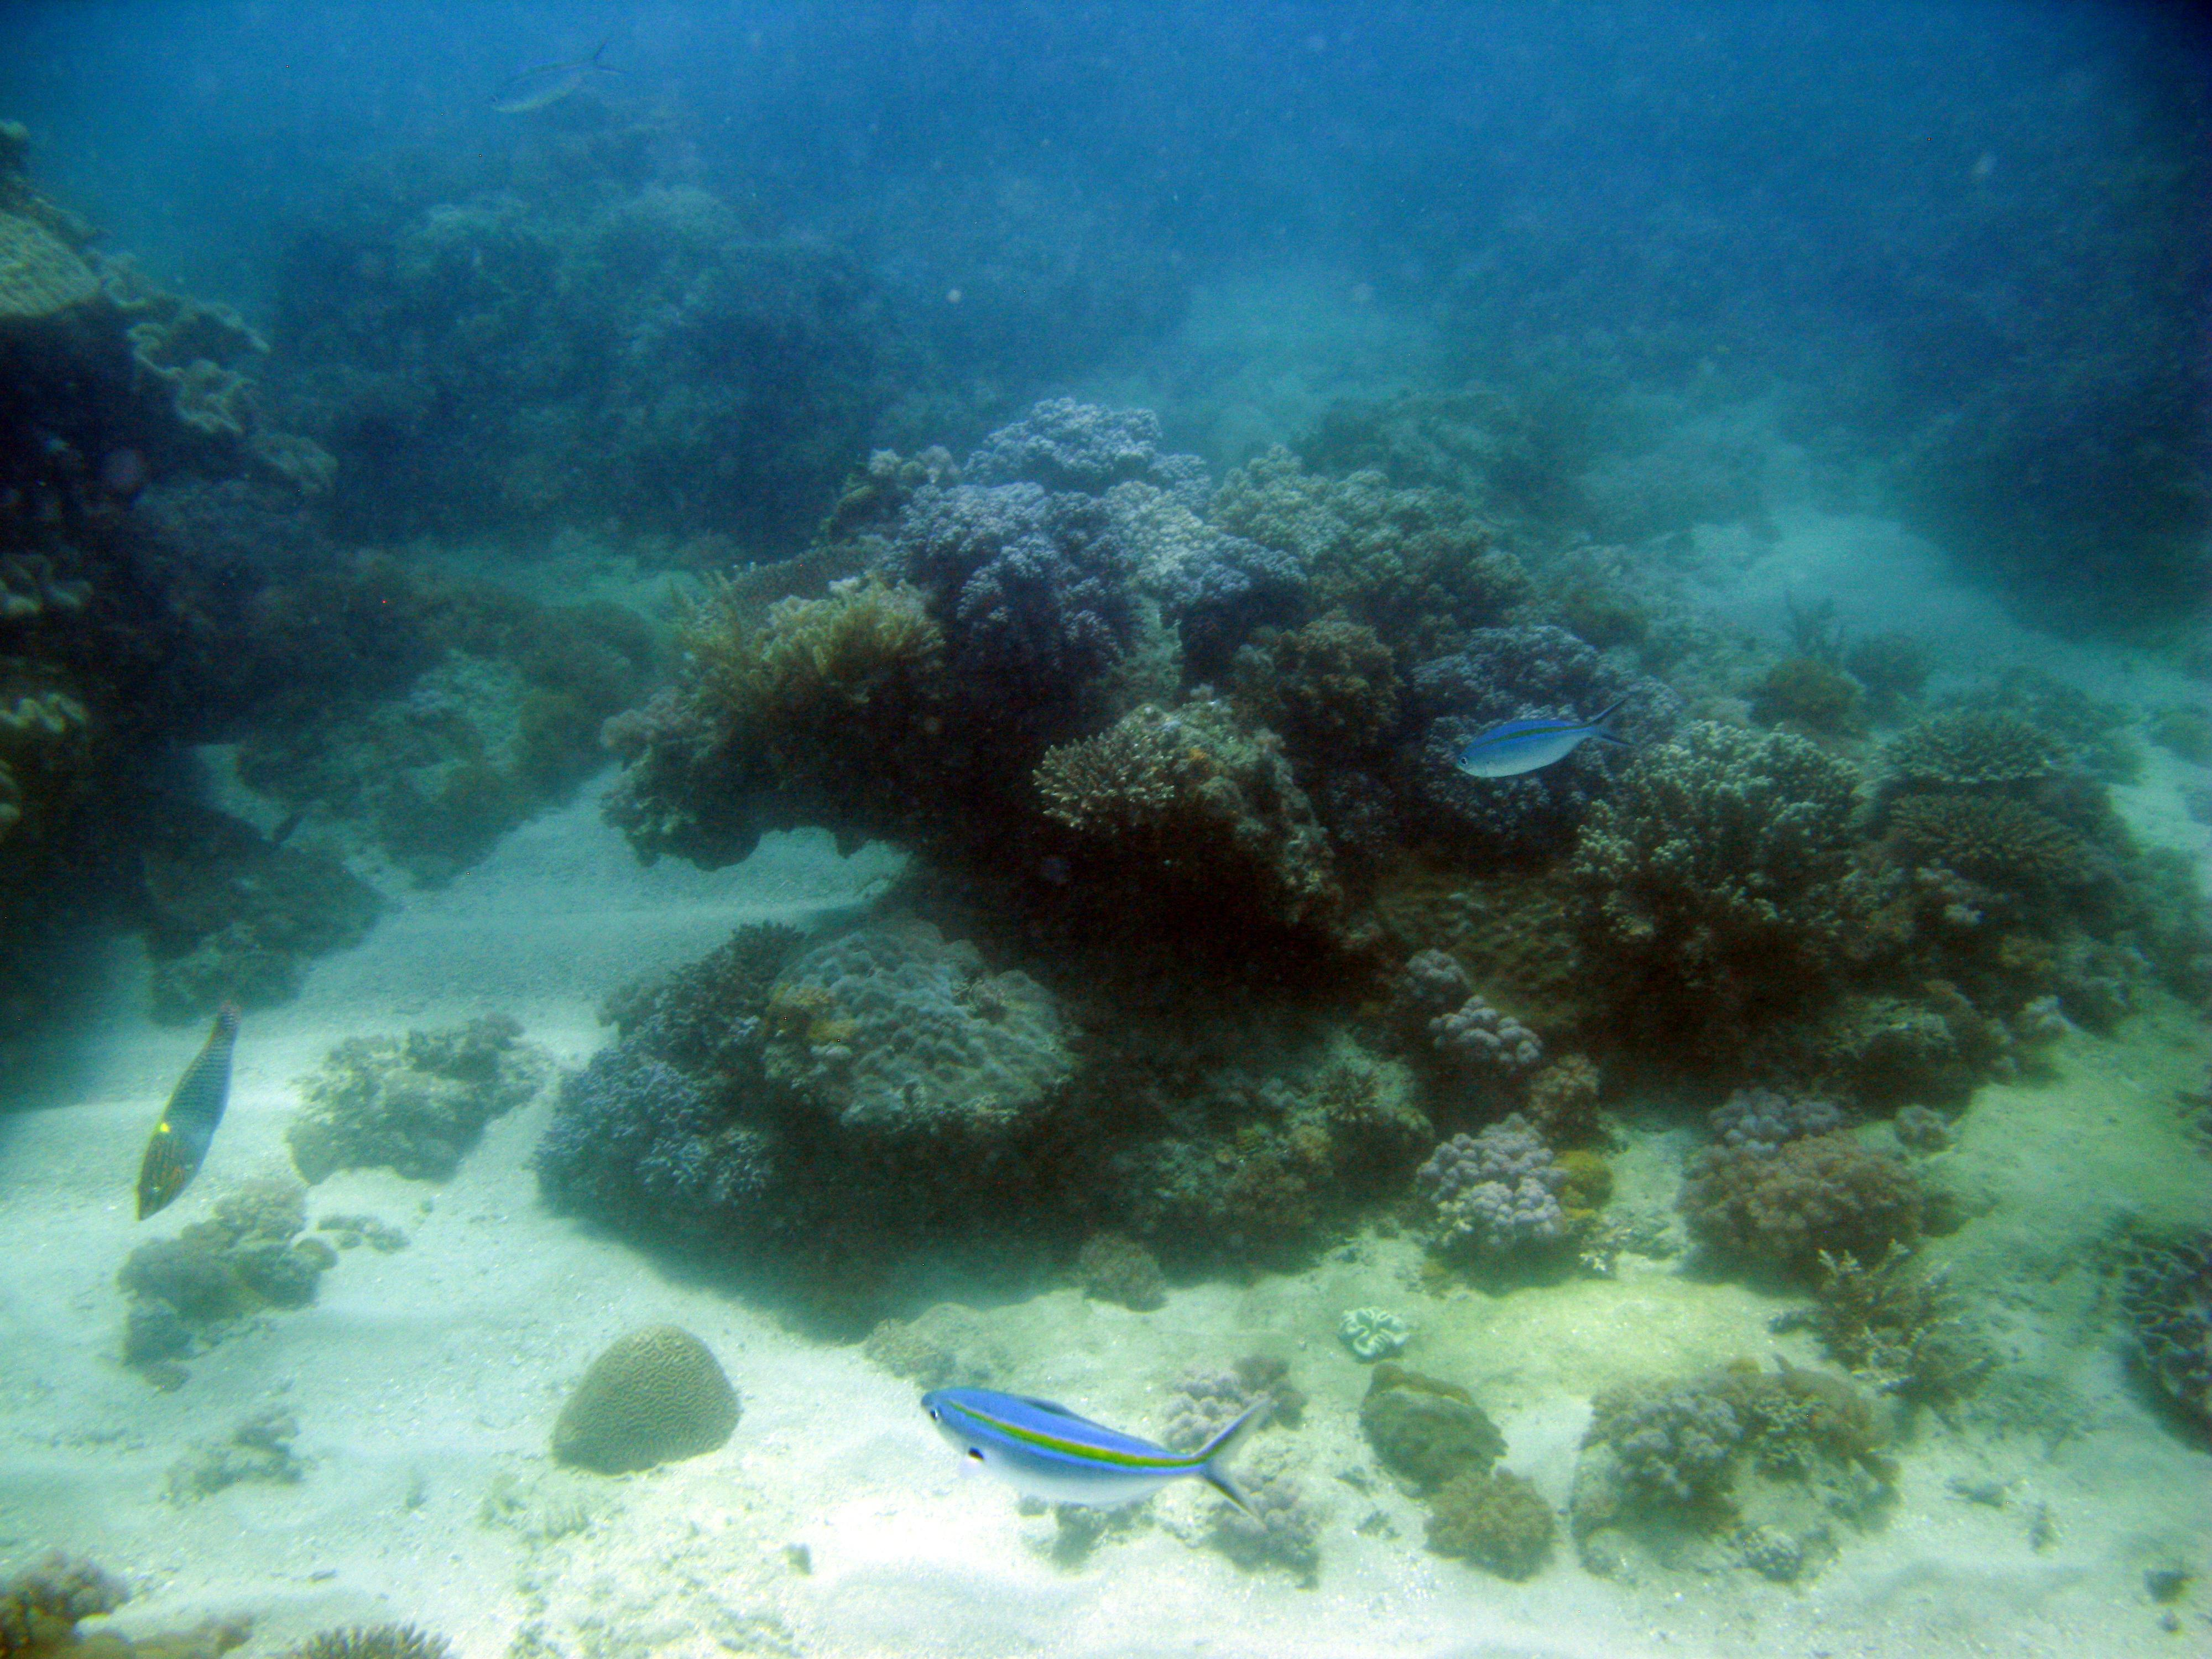Caesio caerulaura: (902, 1356, 1291, 1537), (1435, 692, 1651, 786)
